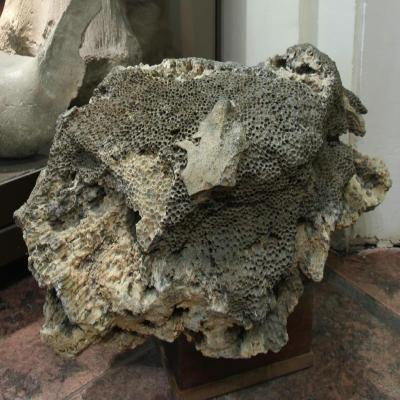natural_science_collection: (14, 43, 392, 362)
